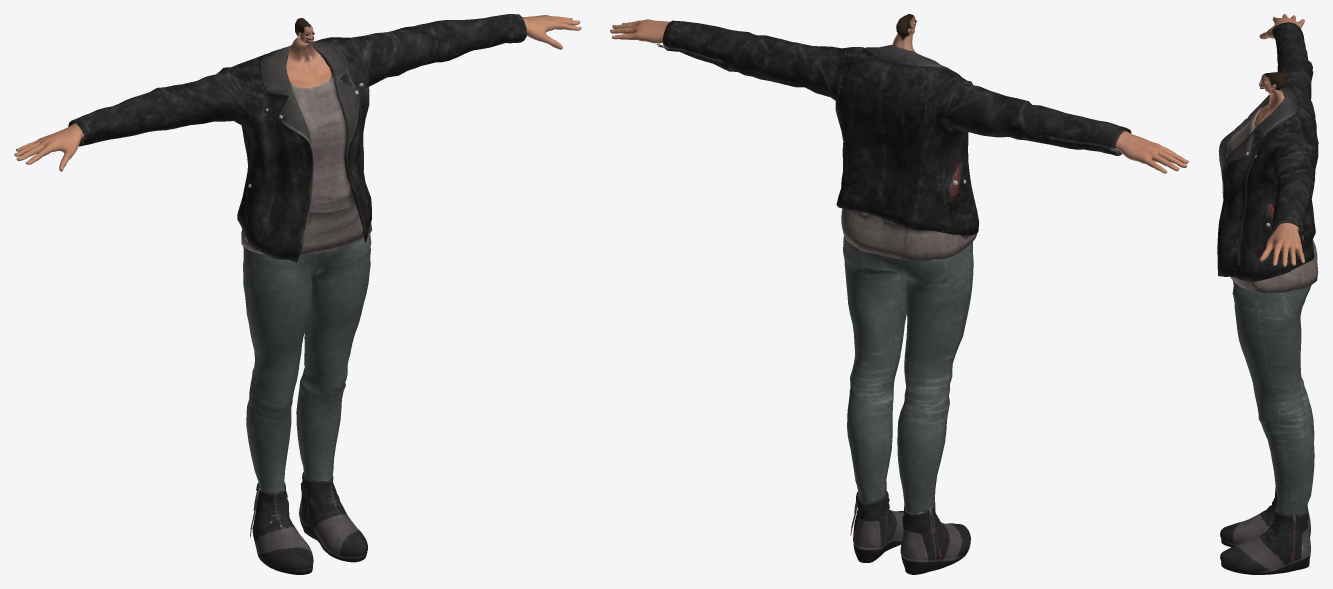
File: Player 2_new.obj
The picture shows the model from 3 angles, left to right: view 1: azimuth 30°, elevation 25°; view 2: azimuth 150°, elevation 25°; view 3: azimuth 270°, elevation 25°; orthographic projection. The views are drawn at different scales.
Parts seen in each view (by area): view 1: Tops, Bottoms, Shoes, Body; view 2: Tops, Bottoms, Shoes, Body; view 3: Tops, Bottoms, Shoes, Body.
Boxes of the visible parts, x1,y1,x2,y2 form: Tops: [68, 14, 526, 262]; Bottoms: [243, 234, 371, 500]; Shoes: [250, 472, 367, 574]; Body: [14, 14, 581, 171]; Tops: [657, 20, 1131, 261]; Bottoms: [843, 236, 973, 513]; Shoes: [850, 490, 970, 574]; Body: [610, 14, 1188, 173]; Tops: [1217, 22, 1318, 293]; Bottoms: [1232, 281, 1314, 514]; Shoes: [1220, 487, 1310, 574]; Body: [1254, 14, 1304, 266].
Bounding box in the file's own units: 179 × 161 × 30.48.
Materials: 1 (1 with a texture image).
